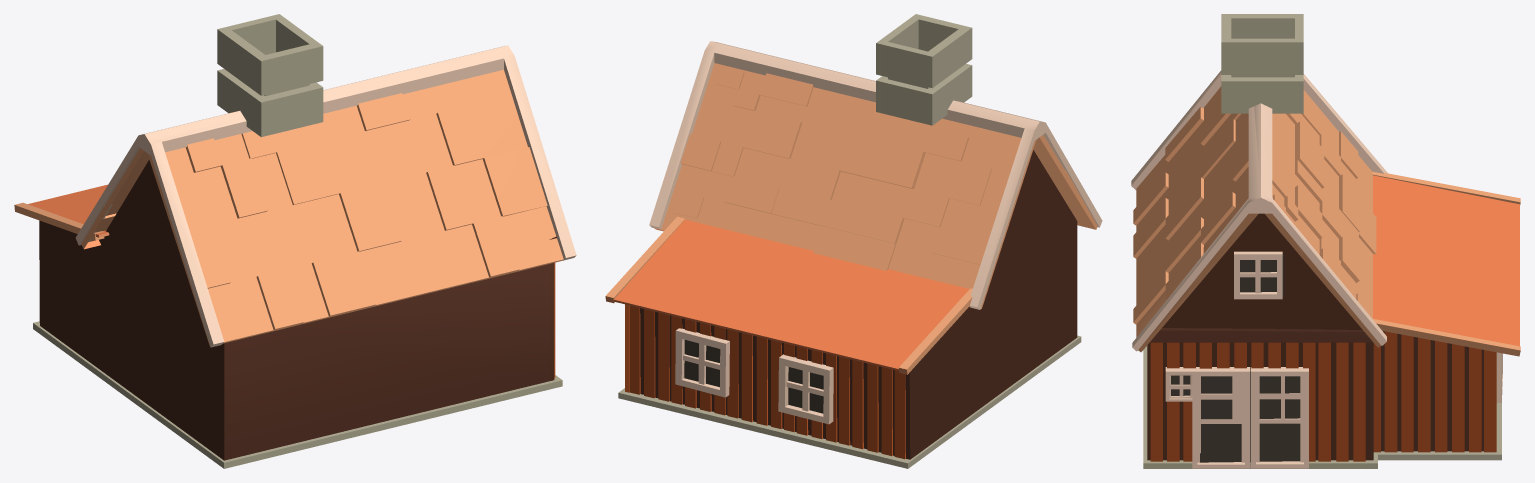
Rendered from home-2.glb.
3 renders of one model, left to right at view 1: azimuth 30°, elevation 25°; view 2: azimuth 150°, elevation 25°; view 3: azimuth 270°, elevation 25°, orthographic. The views are drawn at different scales.
Visible parts, largest first — view 1: Object_2; view 2: Object_2; view 3: Object_2.
Part boxes in pixels (left/top/right/bottom): Object_2: left=14, top=14, right=576, bottom=468; Object_2: left=605, top=14, right=1102, bottom=468; Object_2: left=1131, top=14, right=1520, bottom=468.
Bounding box in the file's own units: 6.25 × 5.88 × 6.18.
Materials: 1 (1 with a texture image).
